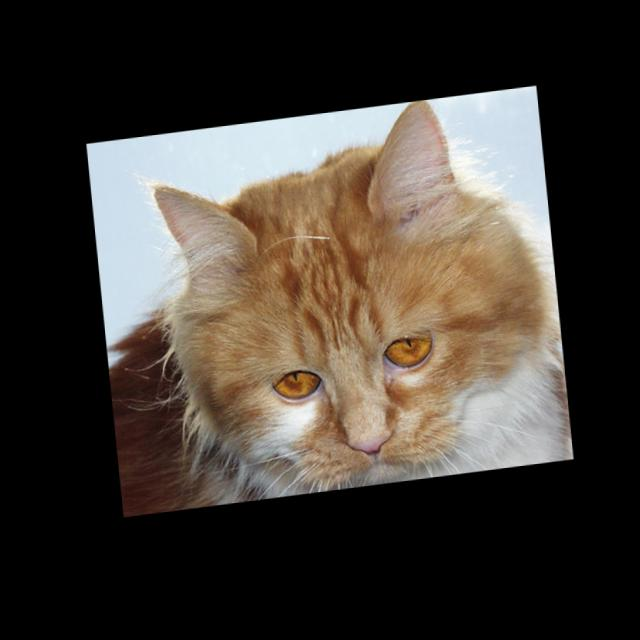animals: (150, 103, 482, 477)
